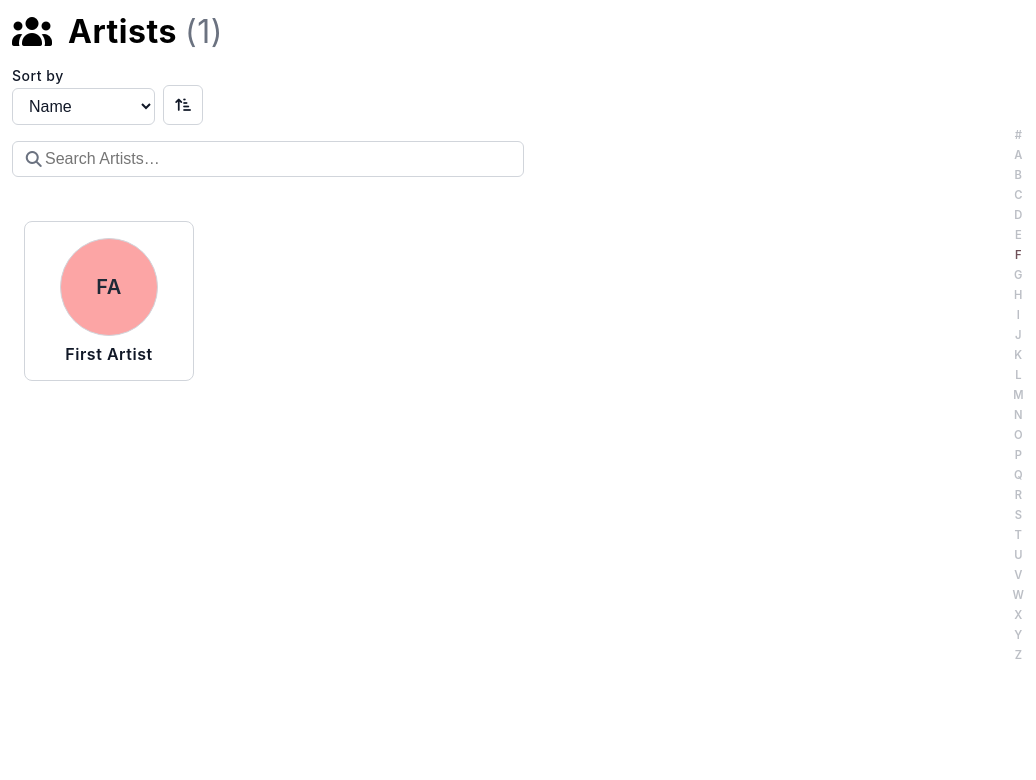
Test case: ArtistsView › debounces search and resets the list
In the search field with placeholder "Search Artists…": coordinates (268, 159) [12,141,524,177], type "query"
Wait 300 ms
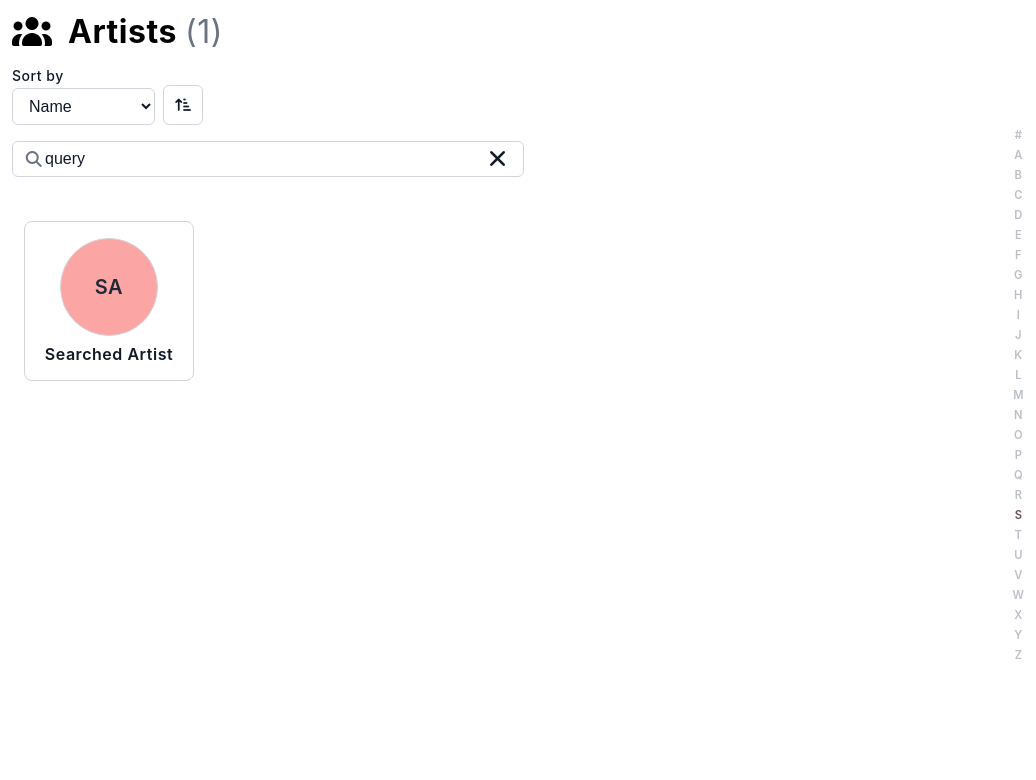
Expected: the text "Searched Artist" is shown, [45,344,173,364]
Expected: the text "First Artist" is gone
